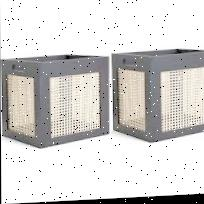cube: (1, 53, 111, 150), (113, 50, 204, 145)
